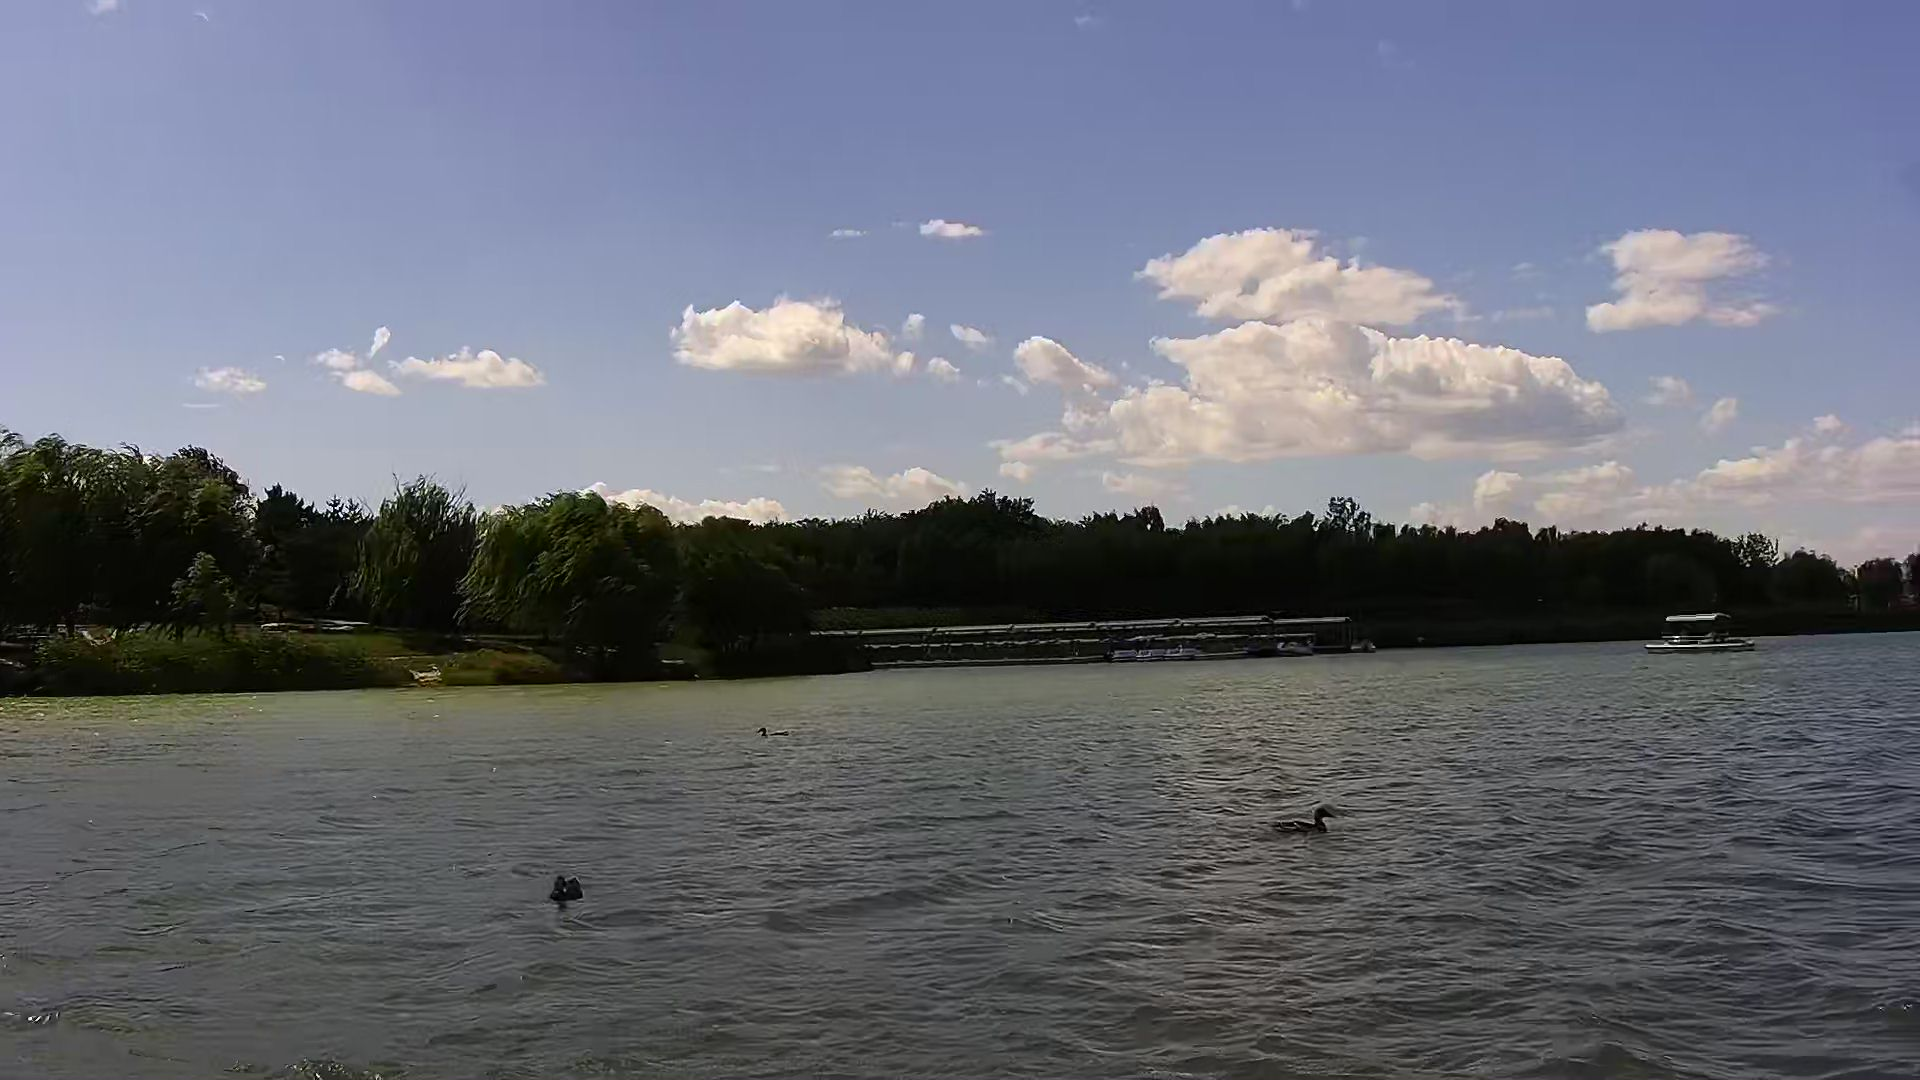animal: (1269, 798, 1333, 831), (553, 872, 582, 913), (752, 723, 793, 741)
boat: (1643, 609, 1754, 657)
harbor: (876, 622, 1340, 655)
rock: (411, 671, 444, 691)
